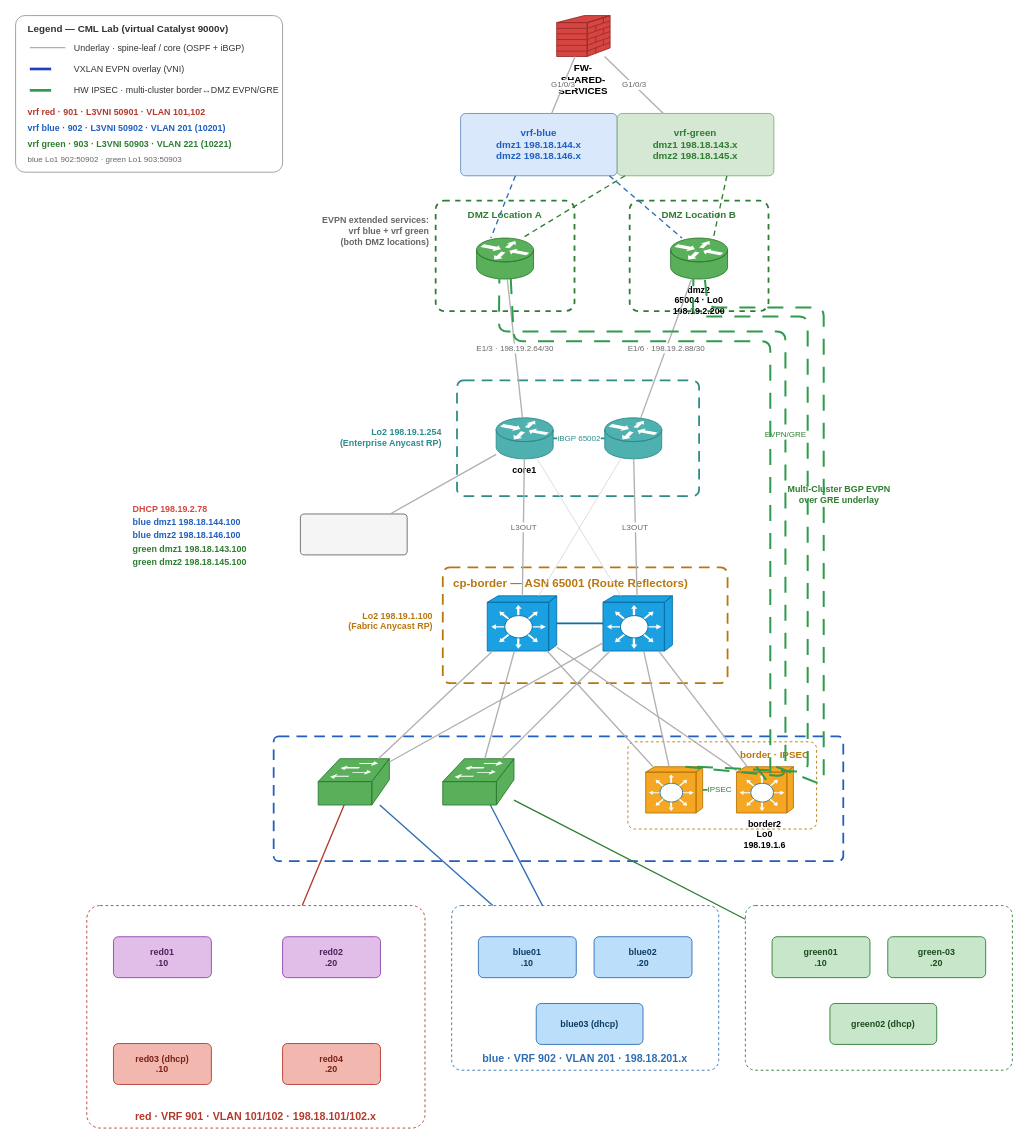
This 1028x1144 diagram has some shape labels left out. Here are the shapes that lost their labels. From the top down, the box of each, then its label:
(476, 237, 534, 279): dmz1 65003 · Lo0 198.19.1.200
(456, 379, 700, 497): Enterprise Core — ASN 65002
(604, 417, 662, 459): core2
(299, 513, 407, 555): dhcp-server G3
(486, 595, 557, 651): spine1 RR · Lo0 198.19.1.1
(602, 595, 672, 651): spine2 RR · Lo0 198.19.1.2
(317, 758, 389, 805): leaf1 (edge node) Lo0 198.19.1.3
(442, 758, 514, 805): leaf2 (edge node) Lo0 198.19.1.4
(272, 735, 844, 862): Campus Fabric — ASN 65001
(645, 766, 703, 813): border1 Lo0 198.19.1.5
(744, 905, 1012, 1070): green · VRF 903 · VLAN 221 · 198.18.221.x
